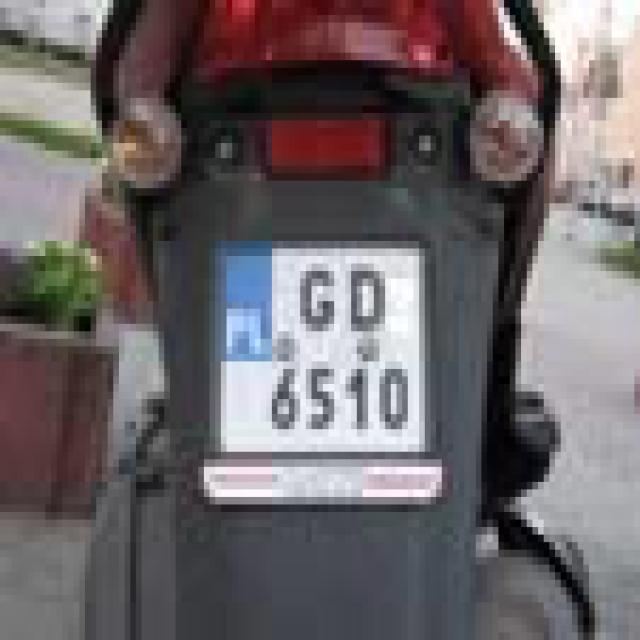pl_license_plate: (210, 233, 424, 444)
